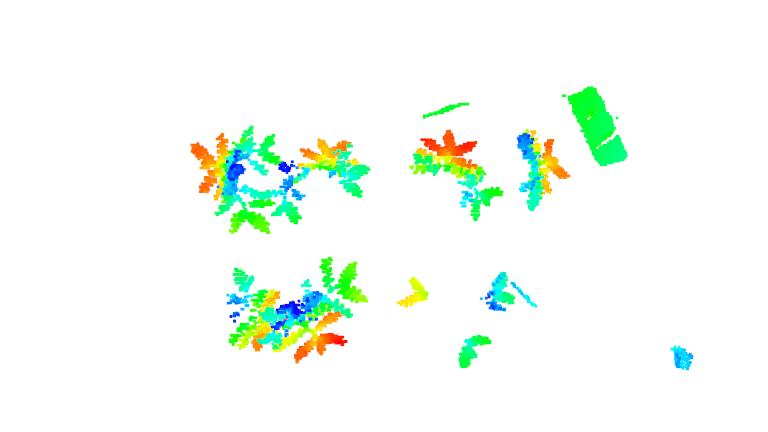chickpea: (192, 133, 280, 234), (281, 133, 372, 227), (411, 129, 502, 220), (292, 257, 369, 362), (226, 259, 291, 364), (457, 272, 518, 369), (518, 130, 569, 209), (392, 272, 432, 307)
